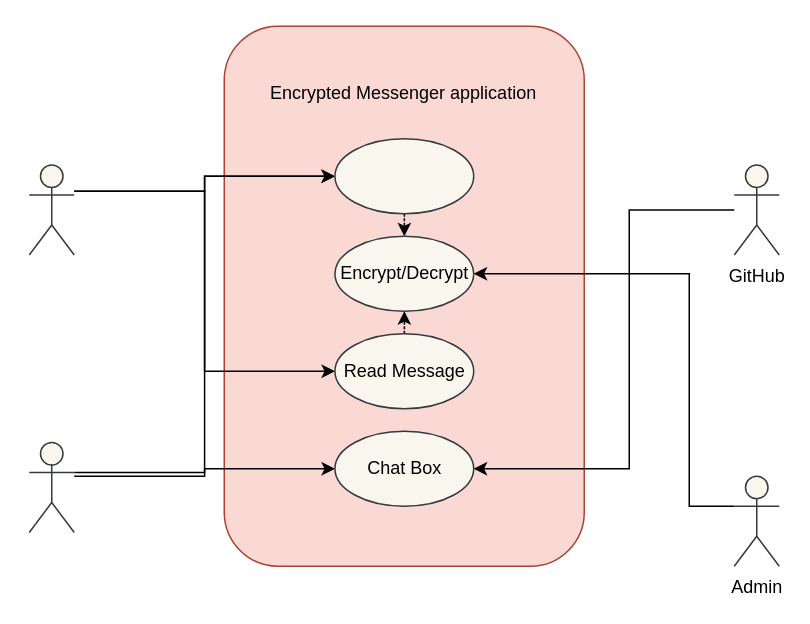
Image size: 810x624. Some labels were removed from this diagram. The shapes that lost their labels are listed below. From the top down, each one's centre as x and y in pixels, then its label:
At [403,175]: "Write Message".
At [51,209]: "User 1".
At [51,486]: "User 2".
